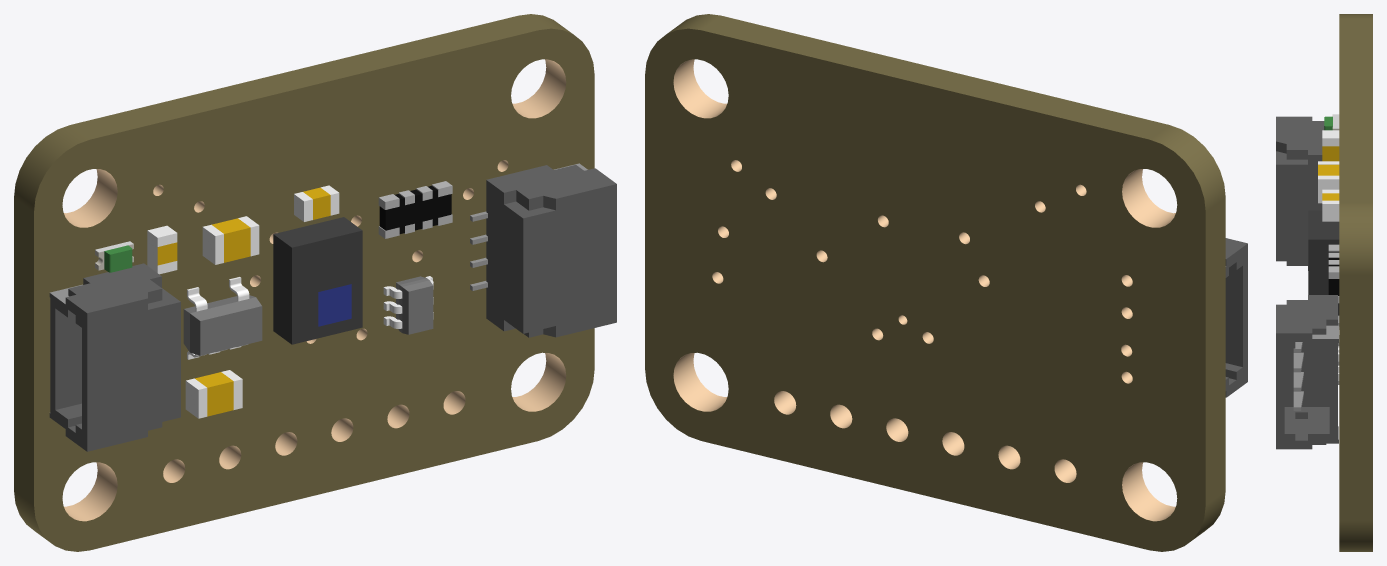
Rendered from adafruit_presence_sensor.glb.
3 renders of one model, left to right at view 1: azimuth 30°, elevation 25°; view 2: azimuth 150°, elevation 25°; view 3: azimuth 270°, elevation 25°, orthographic. The views are drawn at different scales.
Visible parts, largest first — view 1: Board:1, JST_SH4:CONN3, JST_SH4:CONN4, XDCR_STHS34PF80TR:U1, SOT23-5:U2, RESPACK_4X0603:R3, SOT363:Q2, 0805-NO:C3, 0805-NO:C2, 0603-NO:R1, 0603-NO:C1, CHIPLED_0603_NOOUTLINE:D1; view 2: Board:1, JST_SH4:CONN4; view 3: Board:1, JST_SH4:CONN3, JST_SH4:CONN4, XDCR_STHS34PF80TR:U1, 0805-NO:C3, RESPACK_4X0603:R3, 0603-NO:C1, 0603-NO:R1, CHIPLED_0603_NOOUTLINE:D1.
Boxes of the visible parts, x1,y1,x2,y2 form: Board:1: [14, 14, 594, 551]; JST_SH4:CONN3: [470, 163, 616, 337]; JST_SH4:CONN4: [49, 263, 180, 451]; XDCR_STHS34PF80TR:U1: [273, 217, 362, 344]; SOT23-5:U2: [183, 277, 262, 359]; RESPACK_4X0603:R3: [378, 181, 452, 238]; SOT363:Q2: [383, 276, 433, 334]; 0805-NO:C3: [202, 216, 259, 264]; 0805-NO:C2: [185, 370, 242, 418]; 0603-NO:R1: [147, 225, 177, 274]; 0603-NO:C1: [294, 185, 339, 221]; CHIPLED_0603_NOOUTLINE:D1: [95, 241, 133, 272]; Board:1: [645, 14, 1225, 551]; JST_SH4:CONN4: [1225, 238, 1247, 397]; Board:1: [1339, 14, 1372, 551]; JST_SH4:CONN3: [1276, 295, 1339, 449]; JST_SH4:CONN4: [1276, 116, 1324, 270]; XDCR_STHS34PF80TR:U1: [1308, 210, 1339, 315]; 0805-NO:C3: [1318, 161, 1339, 203]; RESPACK_4X0603:R3: [1328, 244, 1339, 303]; 0603-NO:C1: [1322, 189, 1339, 221]; 0603-NO:R1: [1322, 130, 1339, 161]; CHIPLED_0603_NOOUTLINE:D1: [1324, 114, 1339, 130].
Bounding box in the file's own units: 0.0254 × 0.0178 × 0.00453.
